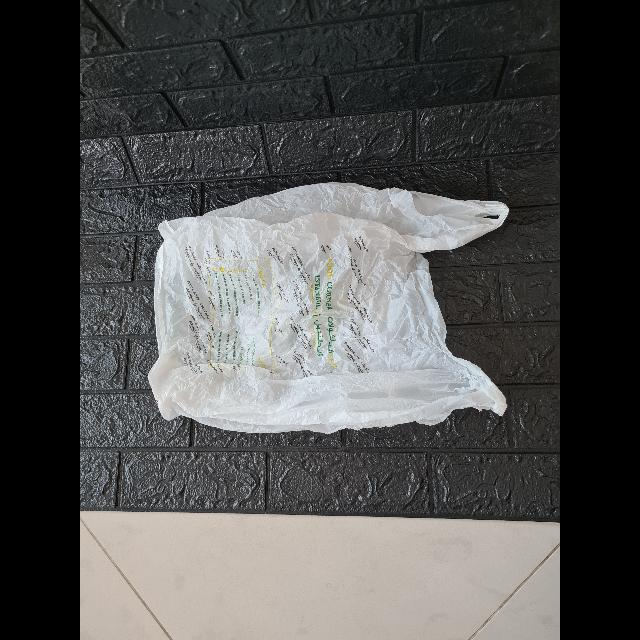plastic_bag: (116, 168, 524, 432)
